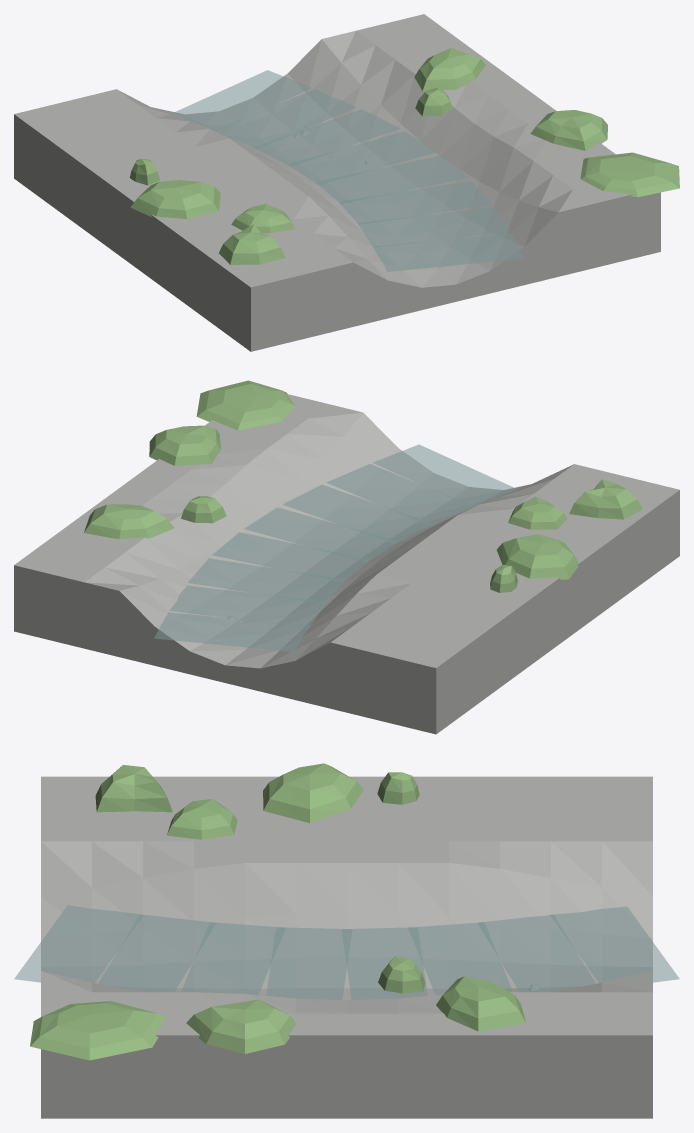
File: dense-temperate-forest-flora-stream-tile-9d67d609__28431.glb
The picture shows the model from 3 angles, top to bottom: view 1: azimuth 30°, elevation 25°; view 2: azimuth 150°, elevation 25°; view 3: azimuth 270°, elevation 25°; orthographic projection. The views are drawn at different scales.
Parts seen in each view (by area): view 1: stream-tile; view 2: stream-tile; view 3: stream-tile.
Part boxes in pixels (x1,y1,x2,y2): stream-tile: [14, 14, 679, 351]; stream-tile: [14, 380, 679, 734]; stream-tile: [14, 763, 679, 1118].
Size of the model in its own units: 2.21 by 0.3921 by 2.18.
